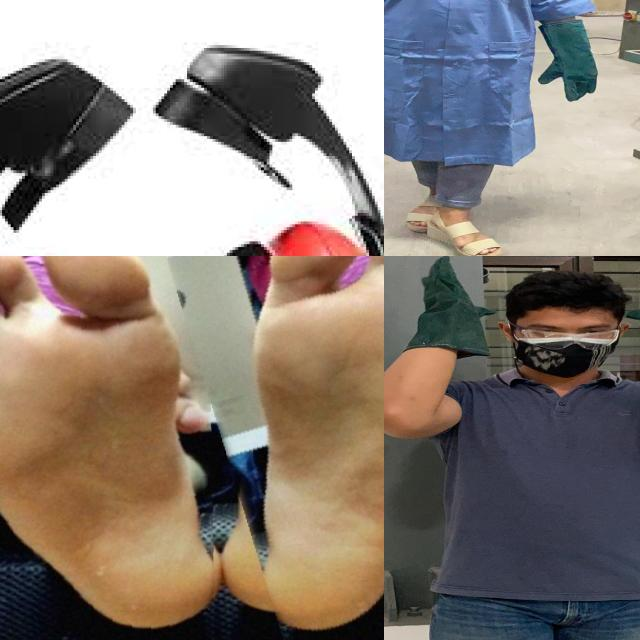Barefoots: (0, 256, 203, 628), (245, 256, 384, 611)
Ear-protection: (0, 47, 384, 256)
face_mask: (506, 320, 630, 375)
glasses: (498, 320, 628, 350)
hand_glove: (406, 258, 504, 355), (532, 42, 614, 102)
head_nohelmet: (502, 266, 634, 320)
person: (384, 256, 640, 640), (384, 0, 630, 256)
